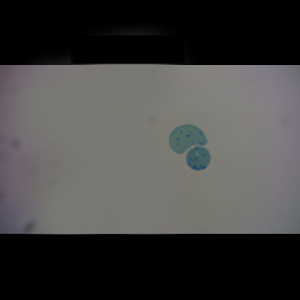aggregate reticulocyte: (185, 145, 212, 172)
punctate reticulocyte: (168, 123, 209, 155)
